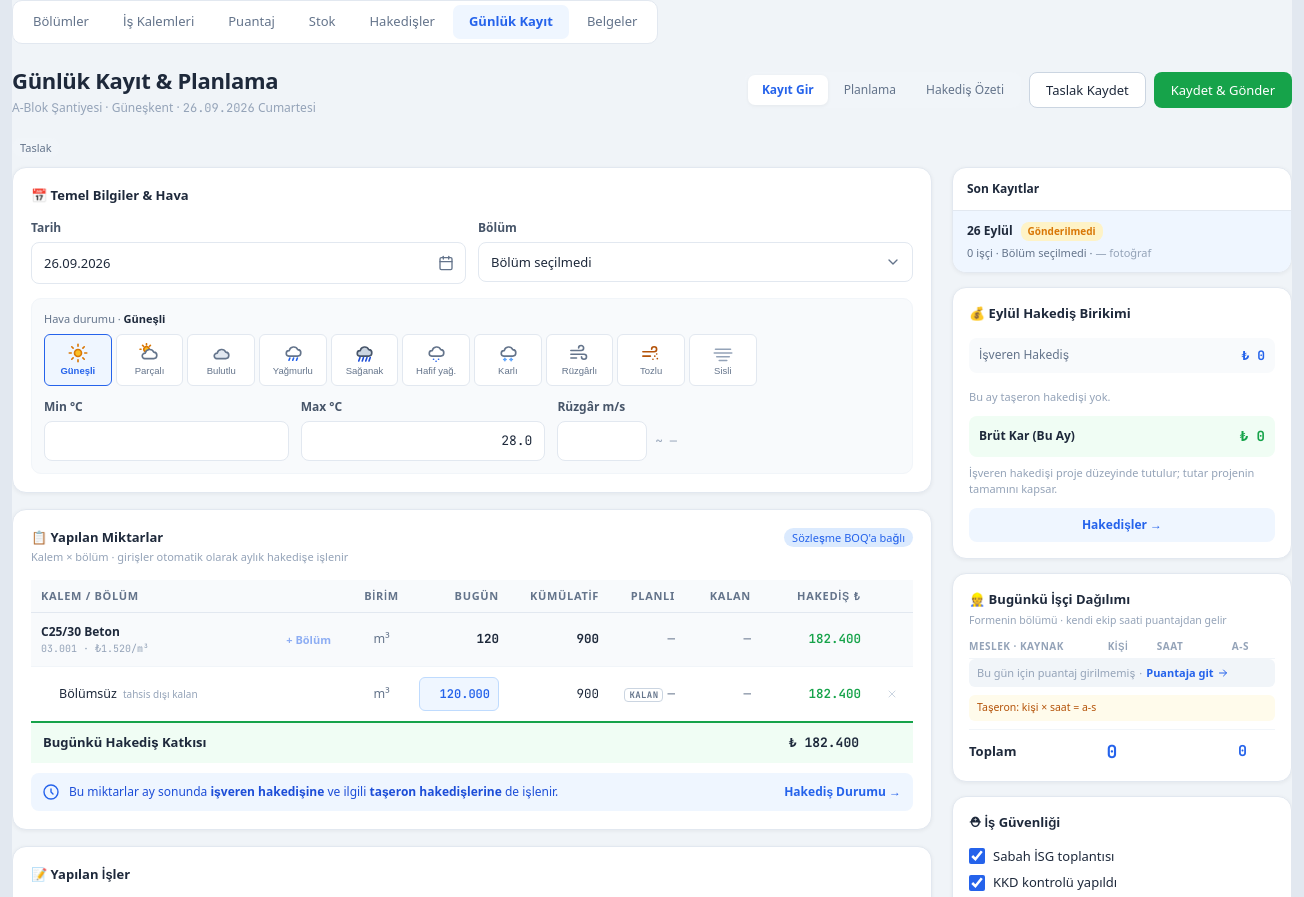
Scenario: SiteDiaryEntryView · 409 akışı › geçersiz miktar hücresi ağa ÇIKMADAN durdurulur
The width and height of the screenshot is (1304, 897).
Replace the text in the field named "03.001 bugün yapılan miktar" with "-5" at [459, 694], box [419, 677, 499, 711]
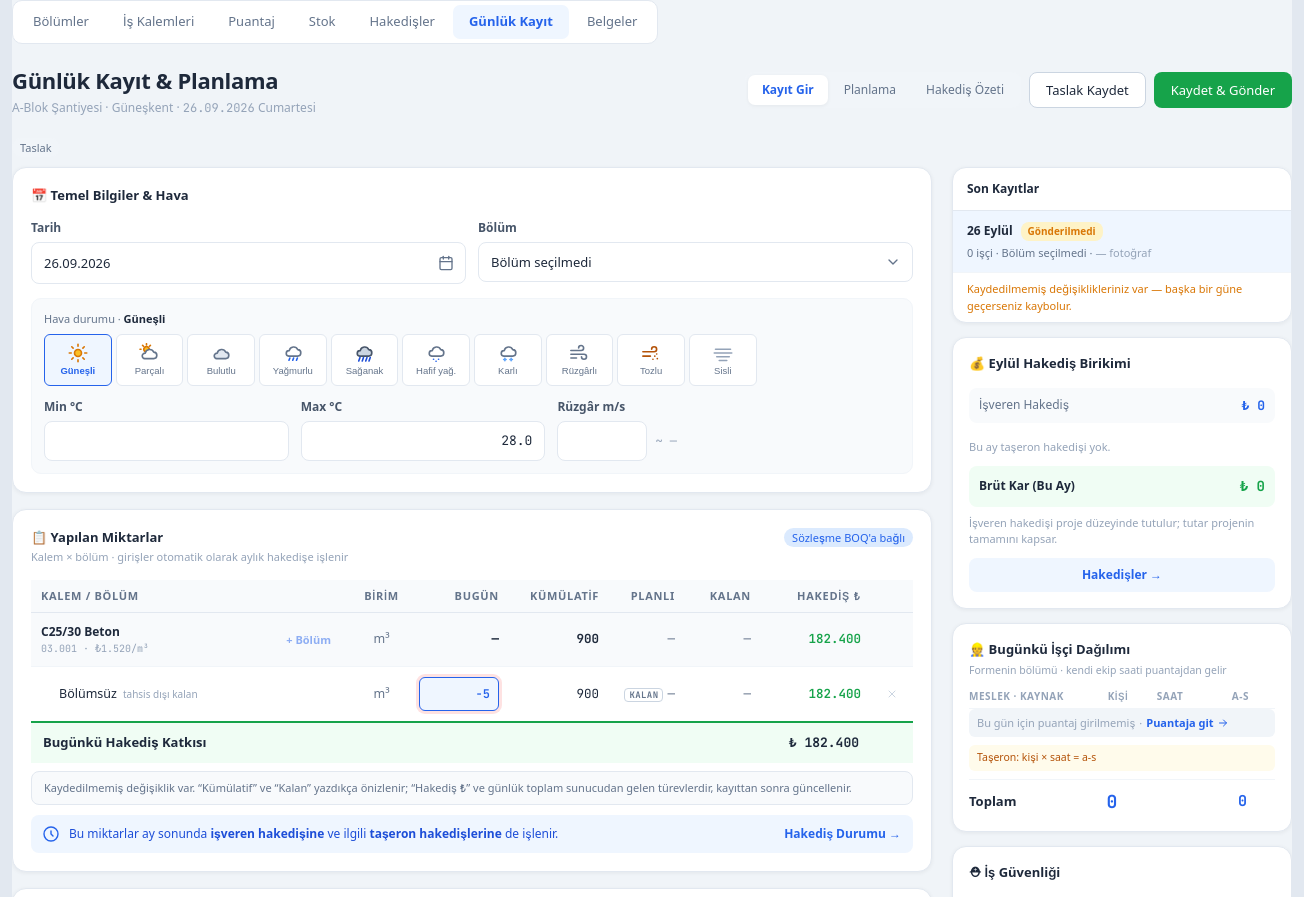
Click the button "Taslak Kaydet".
click(1087, 90)  # box [1029, 72, 1146, 108]
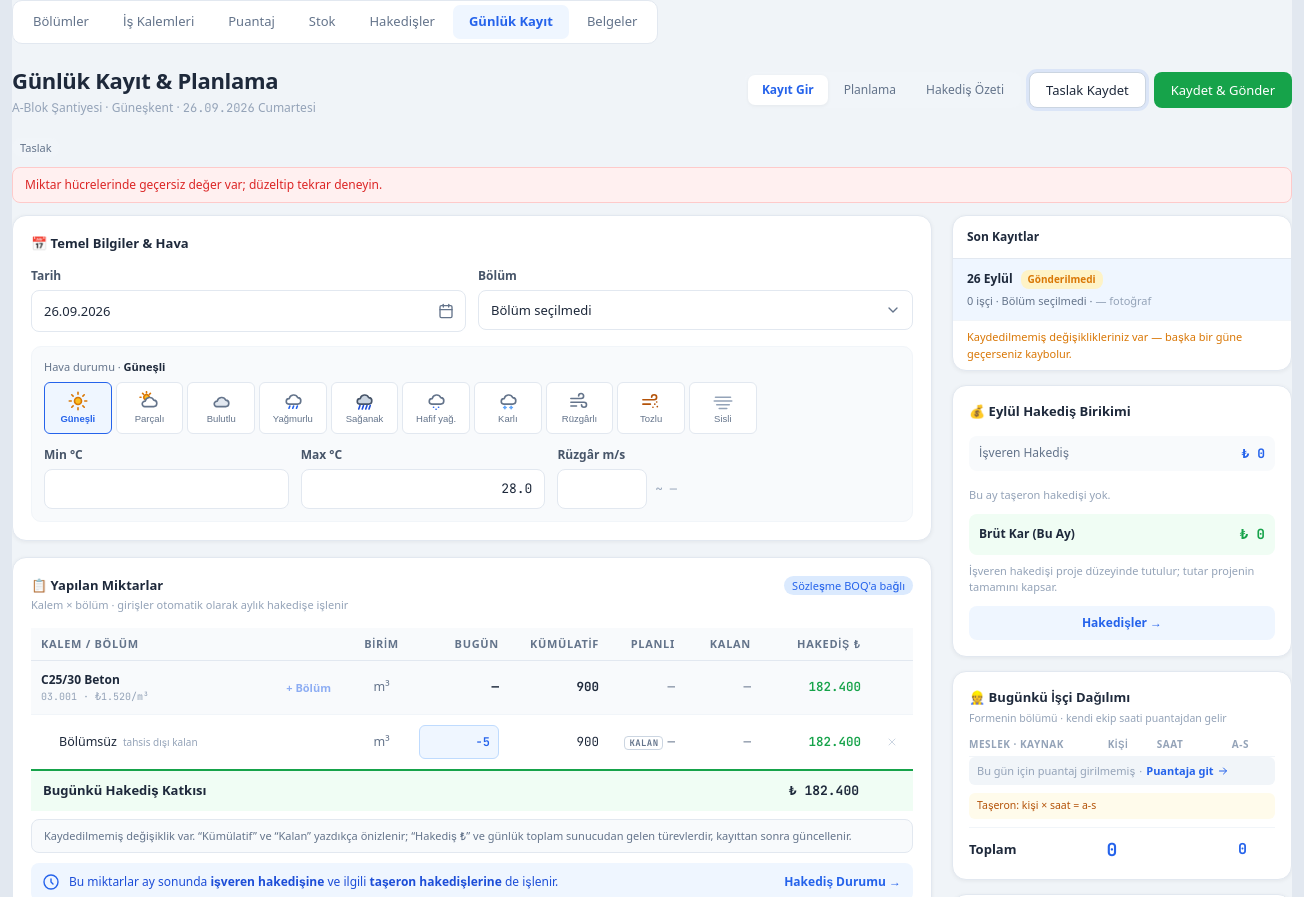
Now the text "Miktar hücrelerinde geçersiz değer var; düzeltip tekrar deneyin." is shown, box [25, 176, 382, 194]
